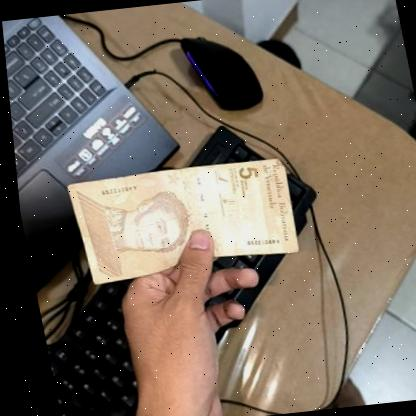five-front-vef: (59, 156, 299, 284)
